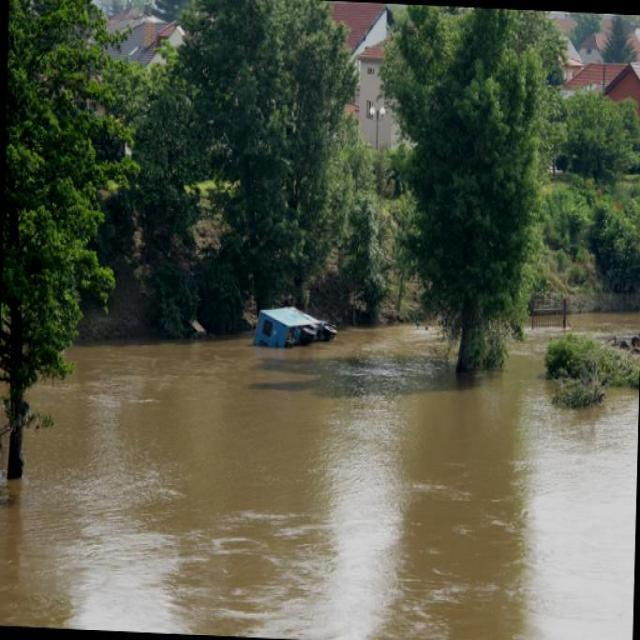flood: (0, 315, 639, 639)
